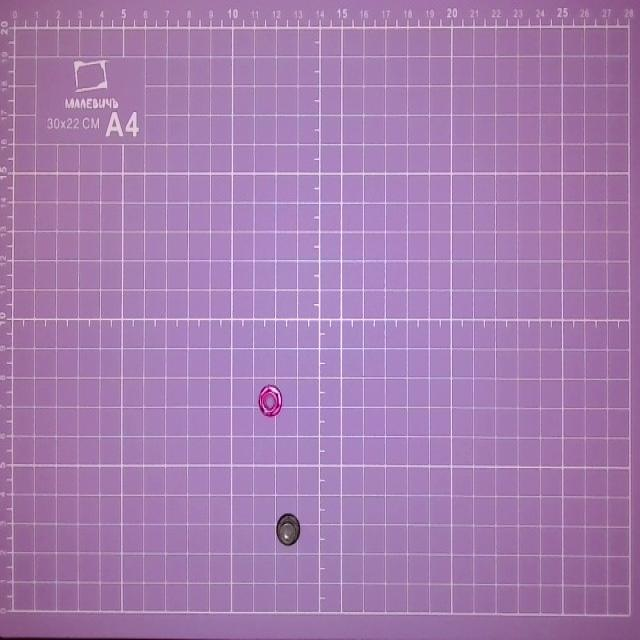screw_M5: (251, 378, 290, 419), (274, 509, 309, 546)
